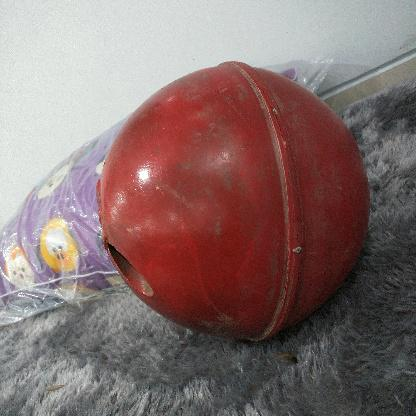red_buoy: (98, 57, 376, 338)
